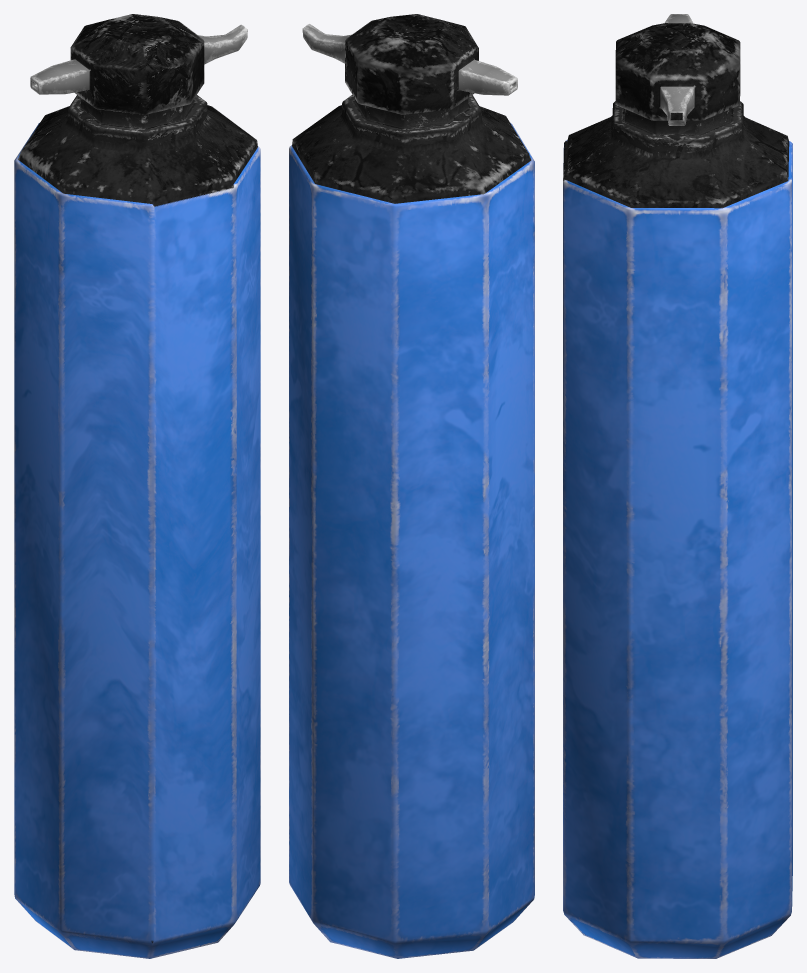
The model's file is Liquidnitrotank.fbx.
3 views of the same model, side by side, from view 1: azimuth 30°, elevation 25°; view 2: azimuth 150°, elevation 25°; view 3: azimuth 270°, elevation 25° (orthographic).
Parts seen in each view (by area): view 1: Cylinder.008_Cylinder.013; view 2: Cylinder.008_Cylinder.013; view 3: Cylinder.008_Cylinder.013.
Boxes of the visible parts, box(x1,y1,x2,y2) form: Cylinder.008_Cylinder.013: box(14, 14, 260, 958); Cylinder.008_Cylinder.013: box(289, 14, 534, 958); Cylinder.008_Cylinder.013: box(563, 14, 792, 958).
Bounding box in the file's own units: 69.7 × 288 × 66.64.
